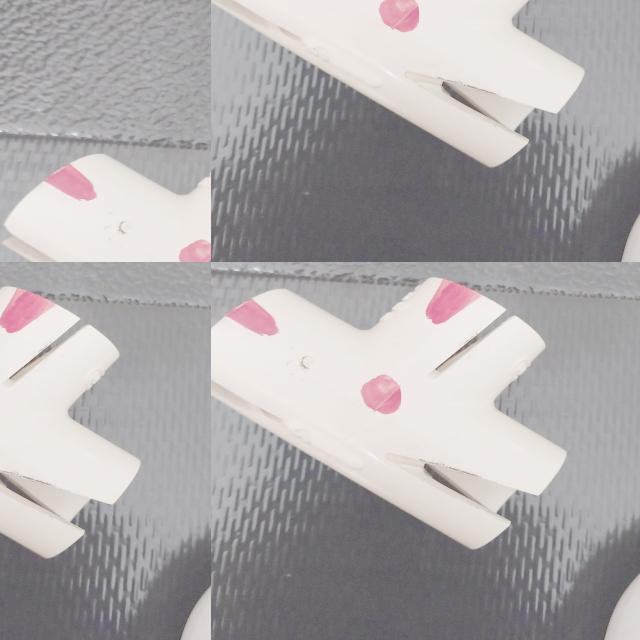Defective: (268, 345, 496, 468), (393, 456, 525, 524), (434, 319, 509, 374), (426, 291, 487, 342), (424, 284, 476, 323), (229, 303, 281, 340), (359, 376, 407, 416), (435, 282, 477, 308)
T Joint: (211, 278, 564, 544)
